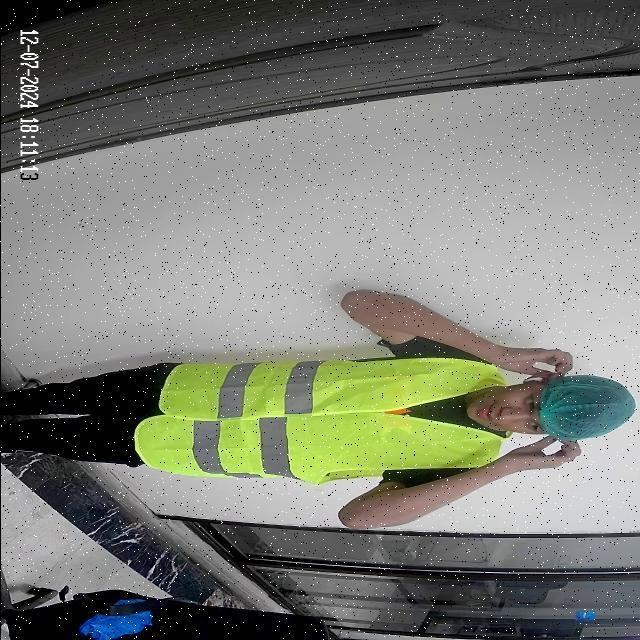gloves: (544, 374, 640, 452)
no_apron: (506, 426, 576, 487), (514, 328, 580, 380)
no_hairnet: (475, 388, 532, 434)
